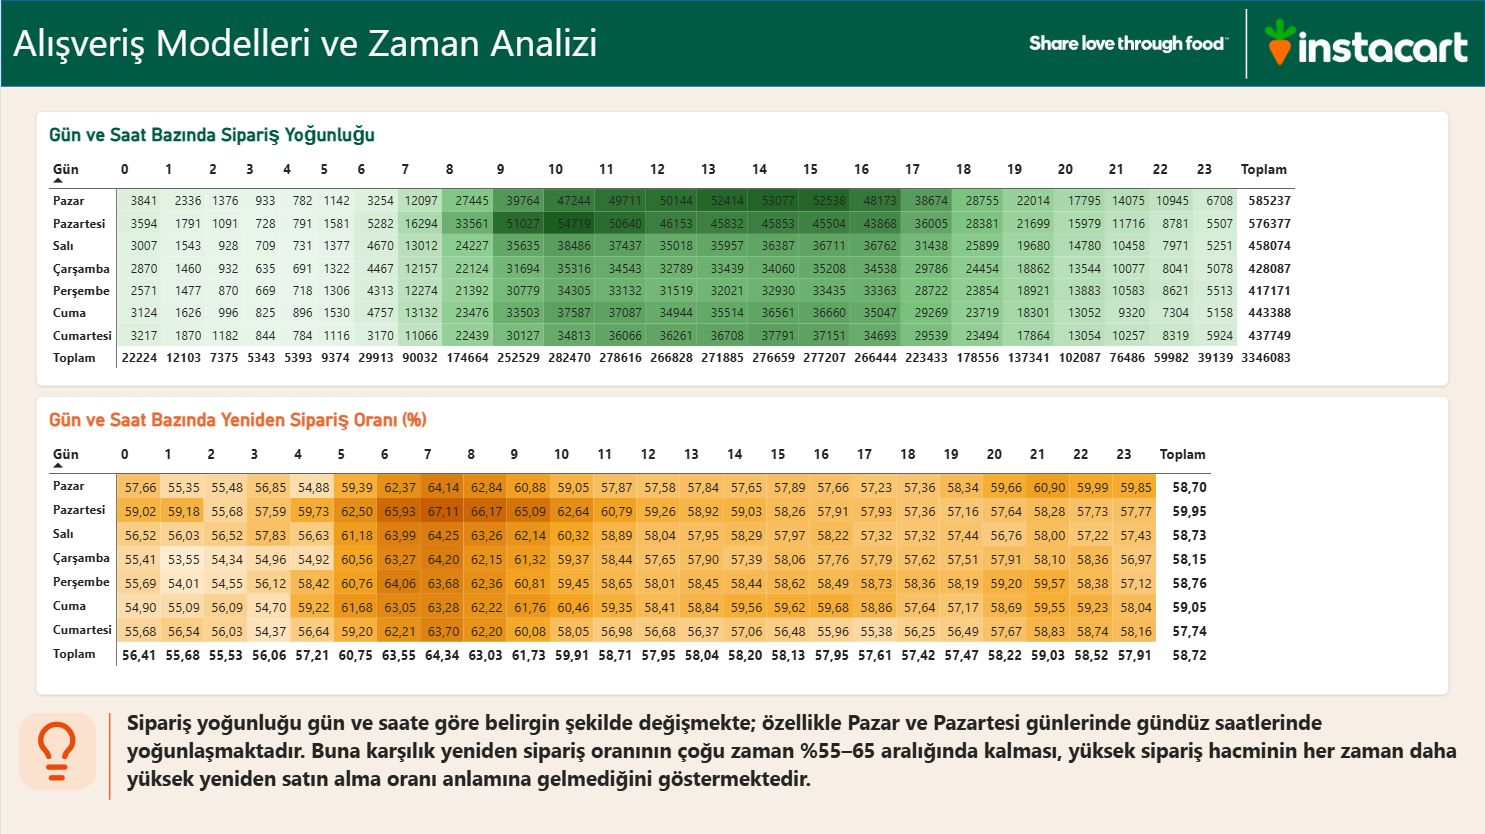

Layout of this report page (visuals, bound fields, positions):
{"tool":"powerbi","page":{"name":"Alışveriş Modelleri ve Zaman Analizi","canvas":[1920,1080],"ordinal":3},"visuals":[{"type":"image","box":[1323.3,0,271.4,112.3],"z":0,"group":"g1"},{"type":"pivotTable","title":"Gün ve Saat Bazında Sipariş Yoğunluğu","fields":{"Rows":["mart_order_time_analysis.Day Name"],"Columns":["mart_order_time_analysis.order_hour_of_day"],"Values":["Sum(mart_order_time_analysis.total_orders)"]},"box":[45.2,143,1828.1,356],"z":0},{"type":"shape","box":[23.3,922.1,100,100],"z":0,"group":"g2"},{"type":"shape","box":[1583,11.7,55.4,90.5],"z":1000,"group":"g1"},{"type":"pivotTable","title":"Gün ve Saat Bazında Yeniden Sipariş Oranı (%)","fields":{"Rows":["mart_order_time_analysis.Day Name"],"Columns":["mart_order_time_analysis.order_hour_of_day"],"Values":["Avg(mart_order_time_analysis.reorder_rate)"]},"box":[45.2,512.1,1828.1,386.6],"z":1000},{"type":"image","box":[11.7,929.4,120.7,82.9],"z":1000,"group":"g2"},{"type":"shape","box":[0,0,1920.3,112],"z":2000},{"type":"shape","box":[103.3,922.1,74.2,112],"z":2000,"group":"g2"},{"type":"textbox","box":[163.4,916.2,1750.8,141.5],"z":3000},{"type":"image","box":[1614.6,0,305.4,111.9],"z":4000},{"type":"textbox","box":[16,20.4,860.8,91.9],"z":5000},{"type":"group","id":"g1","title":"Grup 8","box":[1323.3,0,315.1,112.3],"z":6000},{"type":"group","id":"g2","title":"Grup 1","box":[11.7,922.1,166.3,112.3],"z":7000}]}

Visuals, with their boxes in screenshot pixels (x1, y1, x2, y2), scaled from the page's 1920x1080 canvas onto the 1485x834 screenshot:
image: bbox=[1023, 0, 1233, 87]
"Gün ve Saat Bazında Sipariş Yoğunluğu" pivotTable: bbox=[35, 110, 1449, 385]
shape: bbox=[18, 712, 95, 789]
shape: bbox=[1224, 9, 1267, 79]
"Gün ve Saat Bazında Yeniden Sipariş Oranı (%)" pivotTable: bbox=[35, 395, 1449, 694]
image: bbox=[9, 718, 102, 782]
shape: bbox=[0, 0, 1484, 86]
shape: bbox=[80, 712, 137, 799]
textbox: bbox=[126, 708, 1481, 817]
image: bbox=[1249, 0, 1484, 86]
textbox: bbox=[12, 16, 678, 87]
"Grup 8" group: bbox=[1023, 0, 1267, 87]
"Grup 1" group: bbox=[9, 712, 138, 799]
